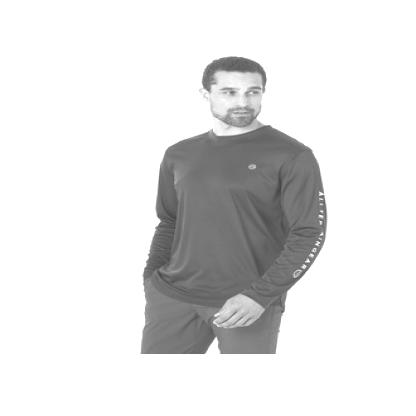dress: (136, 121, 336, 315)
